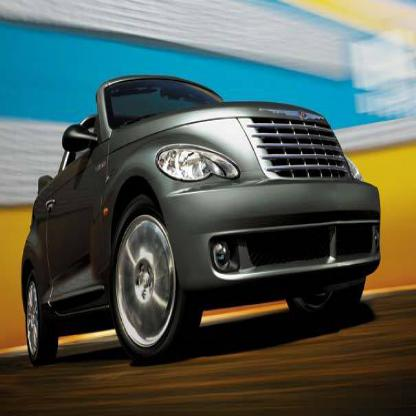Vehicle: (19, 75, 382, 370)
